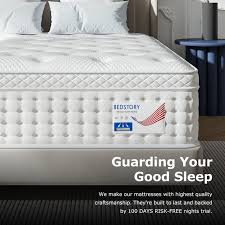bed-matress: (1, 30, 202, 146)
